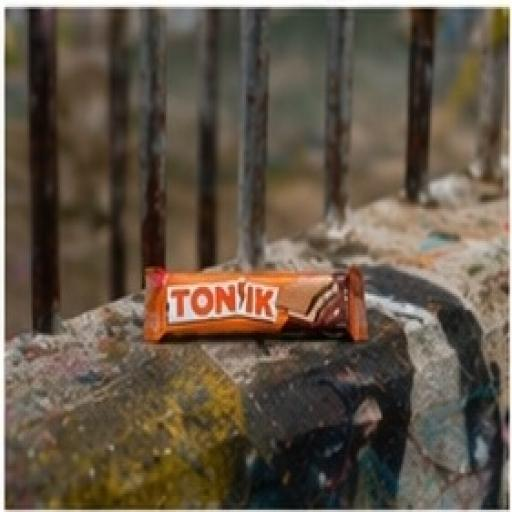tonik: (99, 168, 412, 431)
